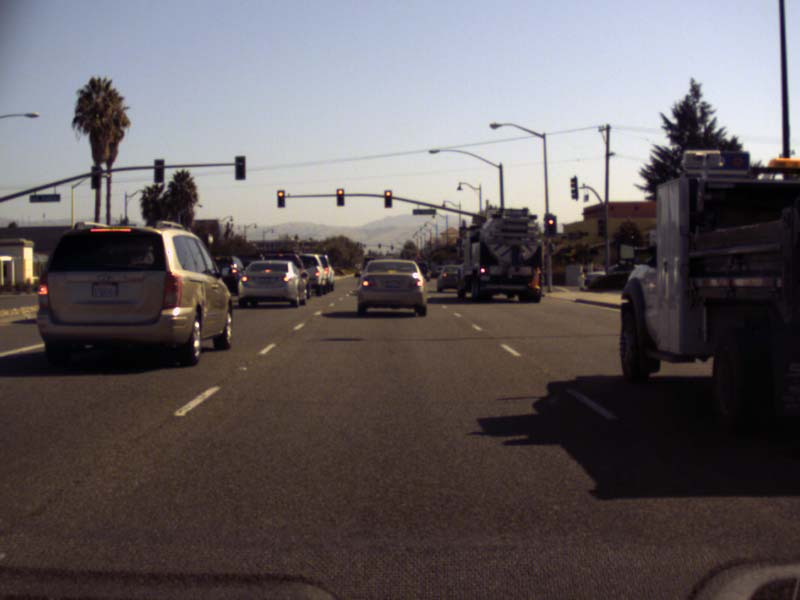Red: (545, 215, 556, 236), (335, 188, 346, 207), (384, 188, 392, 209), (276, 189, 284, 209)
